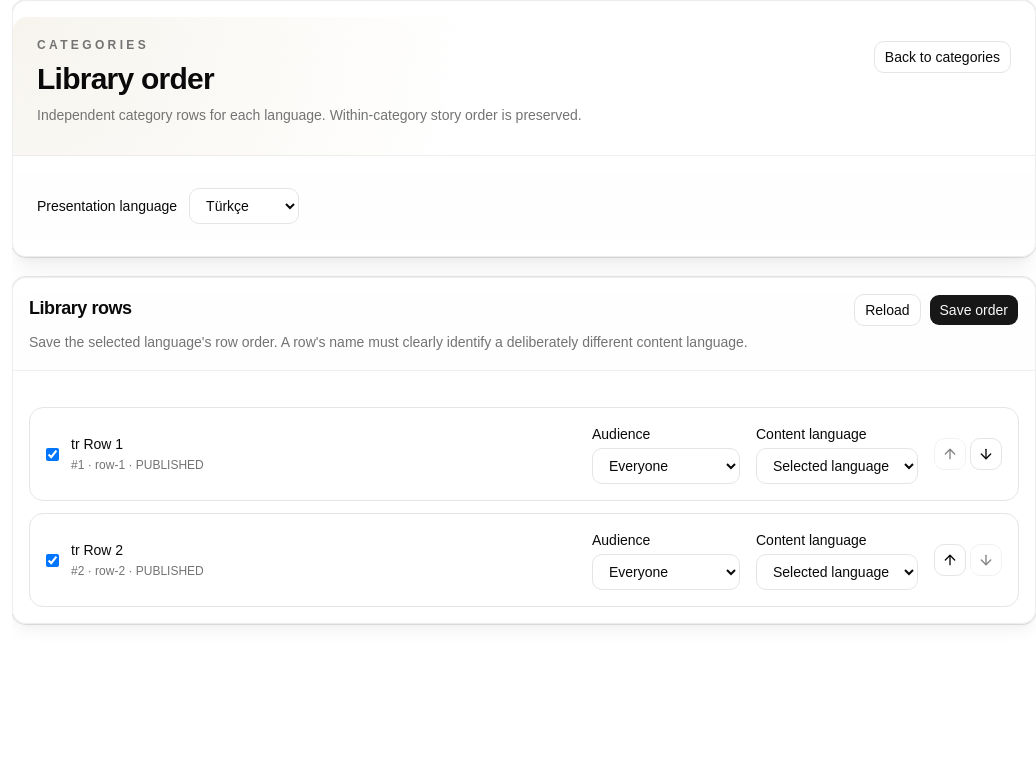
pinned Library editing snapshot › keeps draft and original expectedRevision across background GET failure
Expected: the list named "Library row order" is shown, [29,407,1019,607]
Click the button named "Move up: tr Row 2".
click(950, 560)  # box [934,544,966,576]
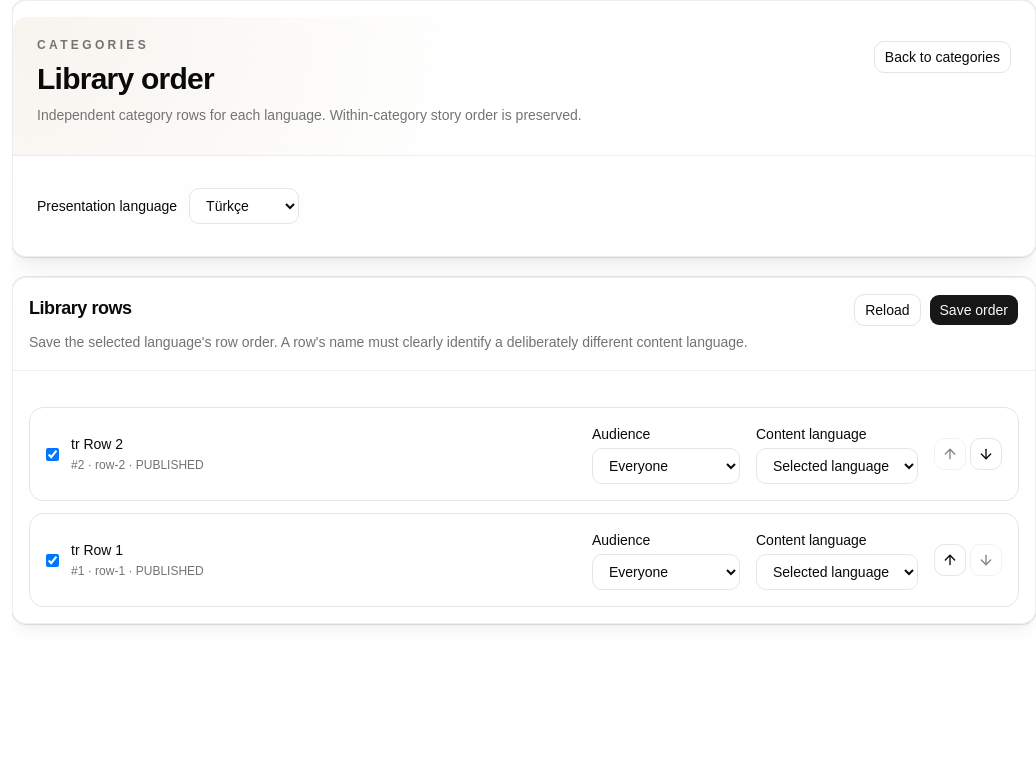
Select "Non-subscribers" in the dropdown named "tr Row 2 audience" at (666, 466), box [592,448,740,484]
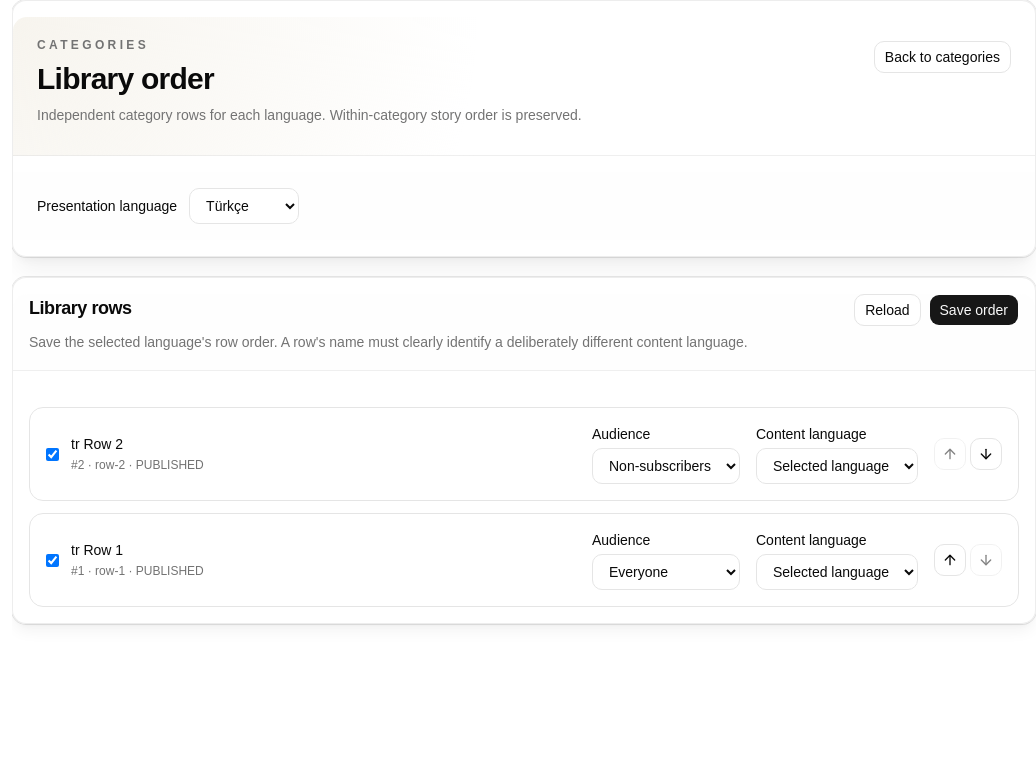
Select "English" in the dropdown named "tr Row 2 content language" at (837, 466), box [756,448,918,484]
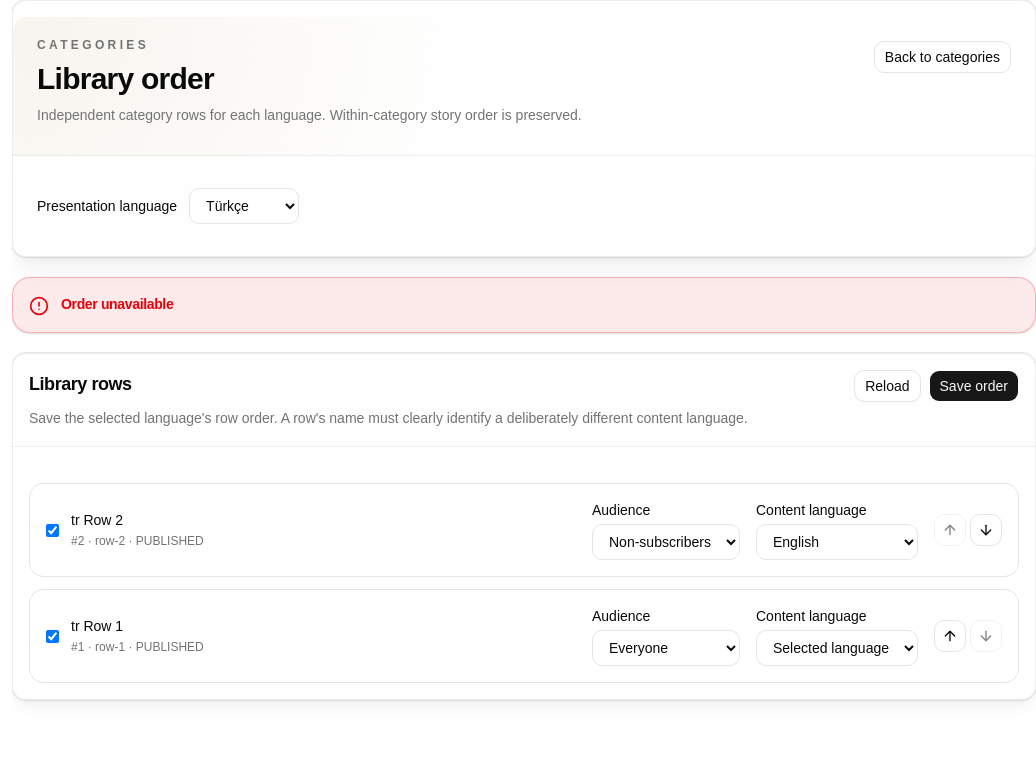
Expected: the list item "tr Row 2 #2 · row-2 · PUBLISHED Audience Content language" is shown, [29,483,1019,577]
Expected: the text "Order unavailable" is shown, [61,296,173,312]
Click the button "Save order".
click(974, 386)  # box [928,370,1019,402]
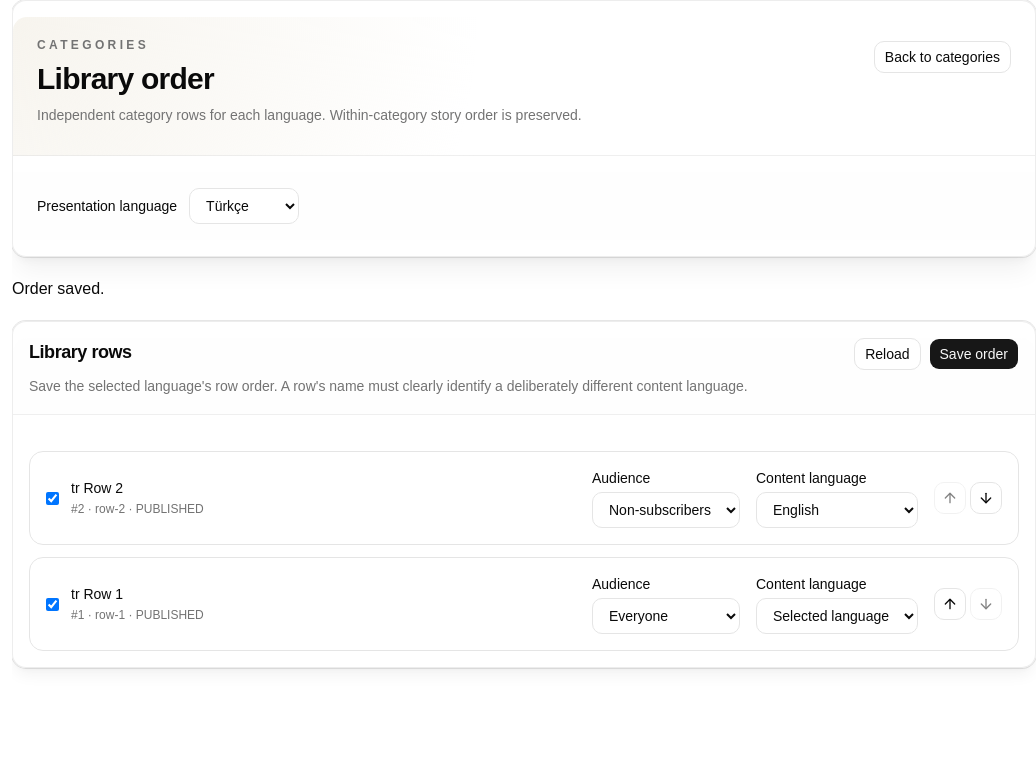
Expected: the text "Order saved." is shown, [12,280,104,297]
